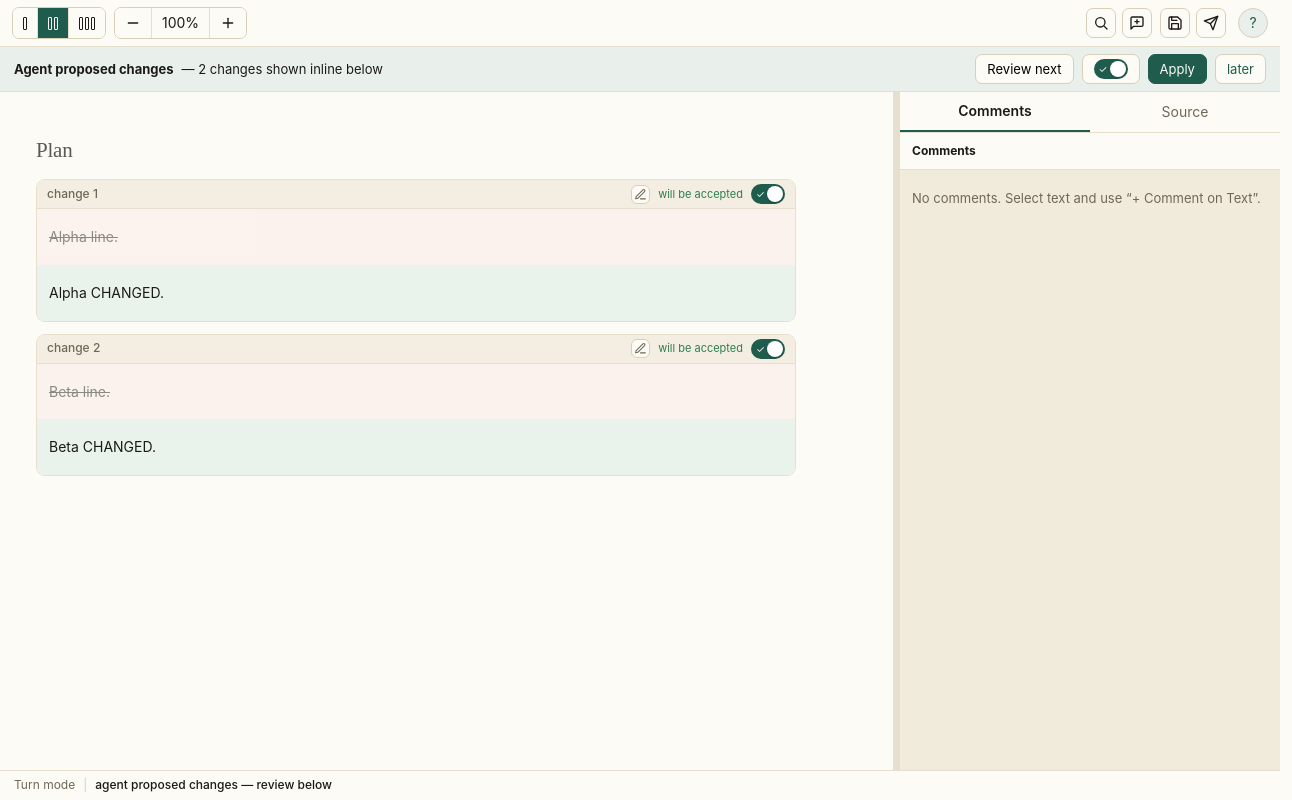
Scenario: App deep review flow (memory-backed) › "later" parks the review behind an "awaiting your review" banner that re-shows it
What coordinates should you click on to do the following:
click the button "later"
I would click on:
 (1240, 69)
Its box is [1215, 54, 1266, 84].
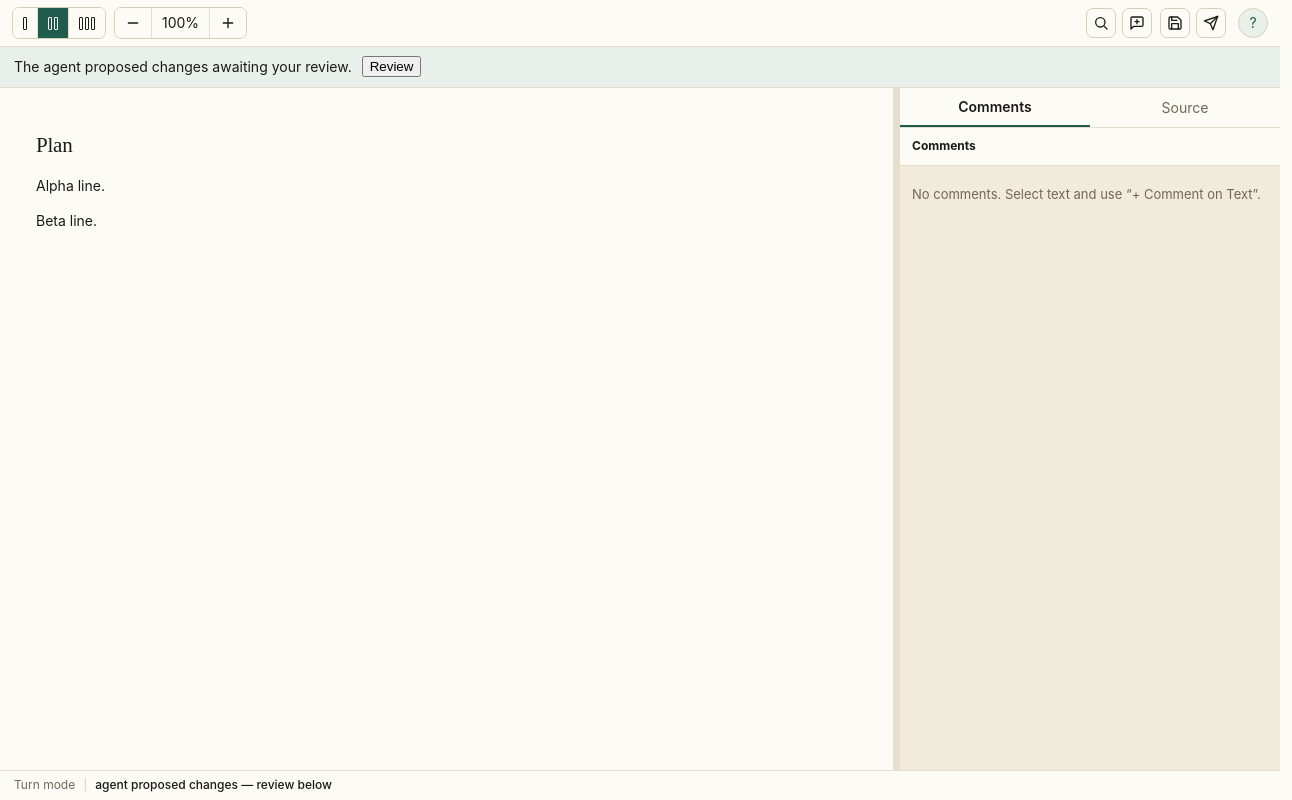
Expected: the text "Agent proposed changes" is not shown
Expected: the text "awaiting your review" is shown, [14, 58, 352, 75]
// Re-show the review from the banner.
What coordinates should you click on to do the following:
click the button "Review"
I would click on:
 (392, 67)
Its box is [362, 56, 421, 77].
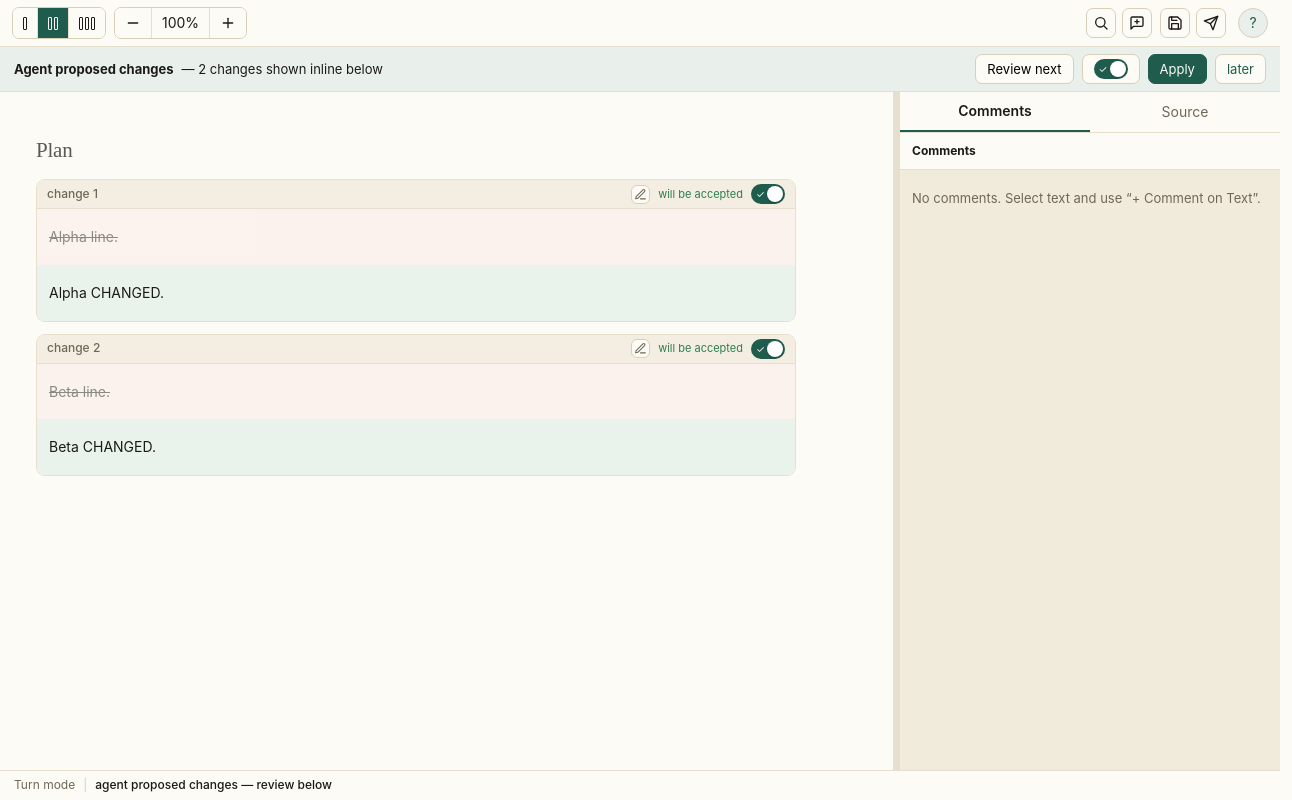
Expected: the text "Agent proposed changes" is shown, [14, 59, 174, 79]
Expected: the text "awaiting your review" is gone
